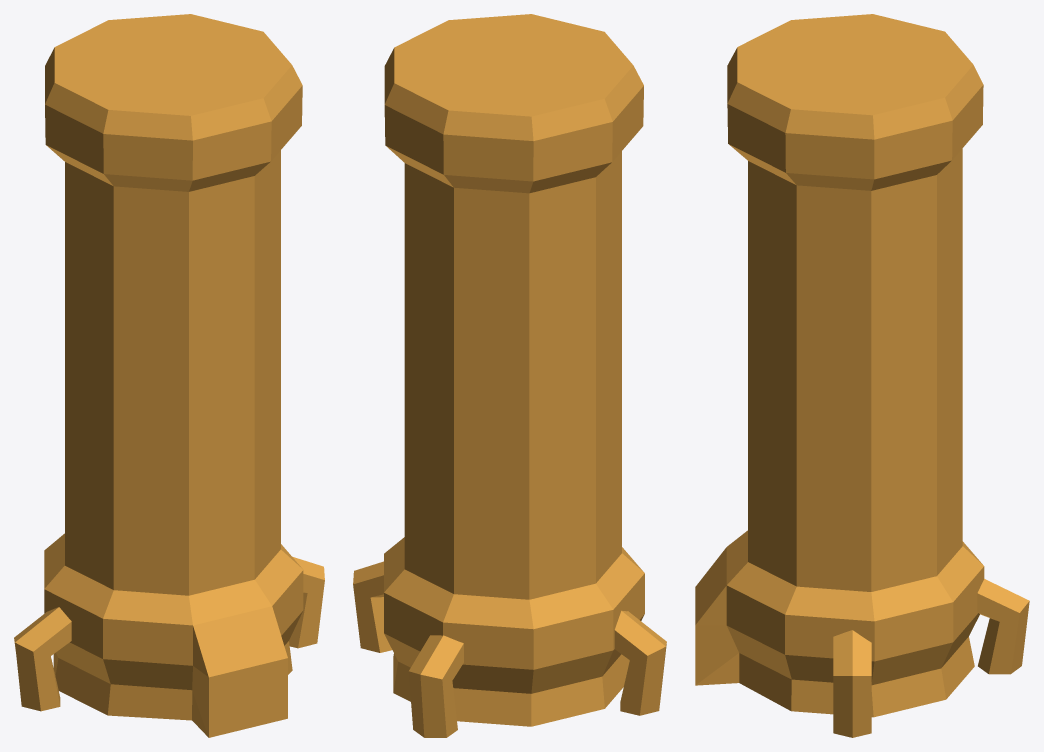
The model's file is scifi-tube-specimen.fbx.
3 renders of one model, left to right at view 1: azimuth 30°, elevation 25°; view 2: azimuth 150°, elevation 25°; view 3: azimuth 270°, elevation 25°, orthographic.
Visible parts, largest first — view 1: scifi-tube-specimen; view 2: scifi-tube-specimen; view 3: scifi-tube-specimen.
Boxes of the visible parts, bbox=[...] form: scifi-tube-specimen: bbox=[14, 14, 324, 737]; scifi-tube-specimen: bbox=[353, 14, 666, 737]; scifi-tube-specimen: bbox=[695, 14, 1029, 737].
Size of the model in its own units: 1.6 by 3 by 1.51.
